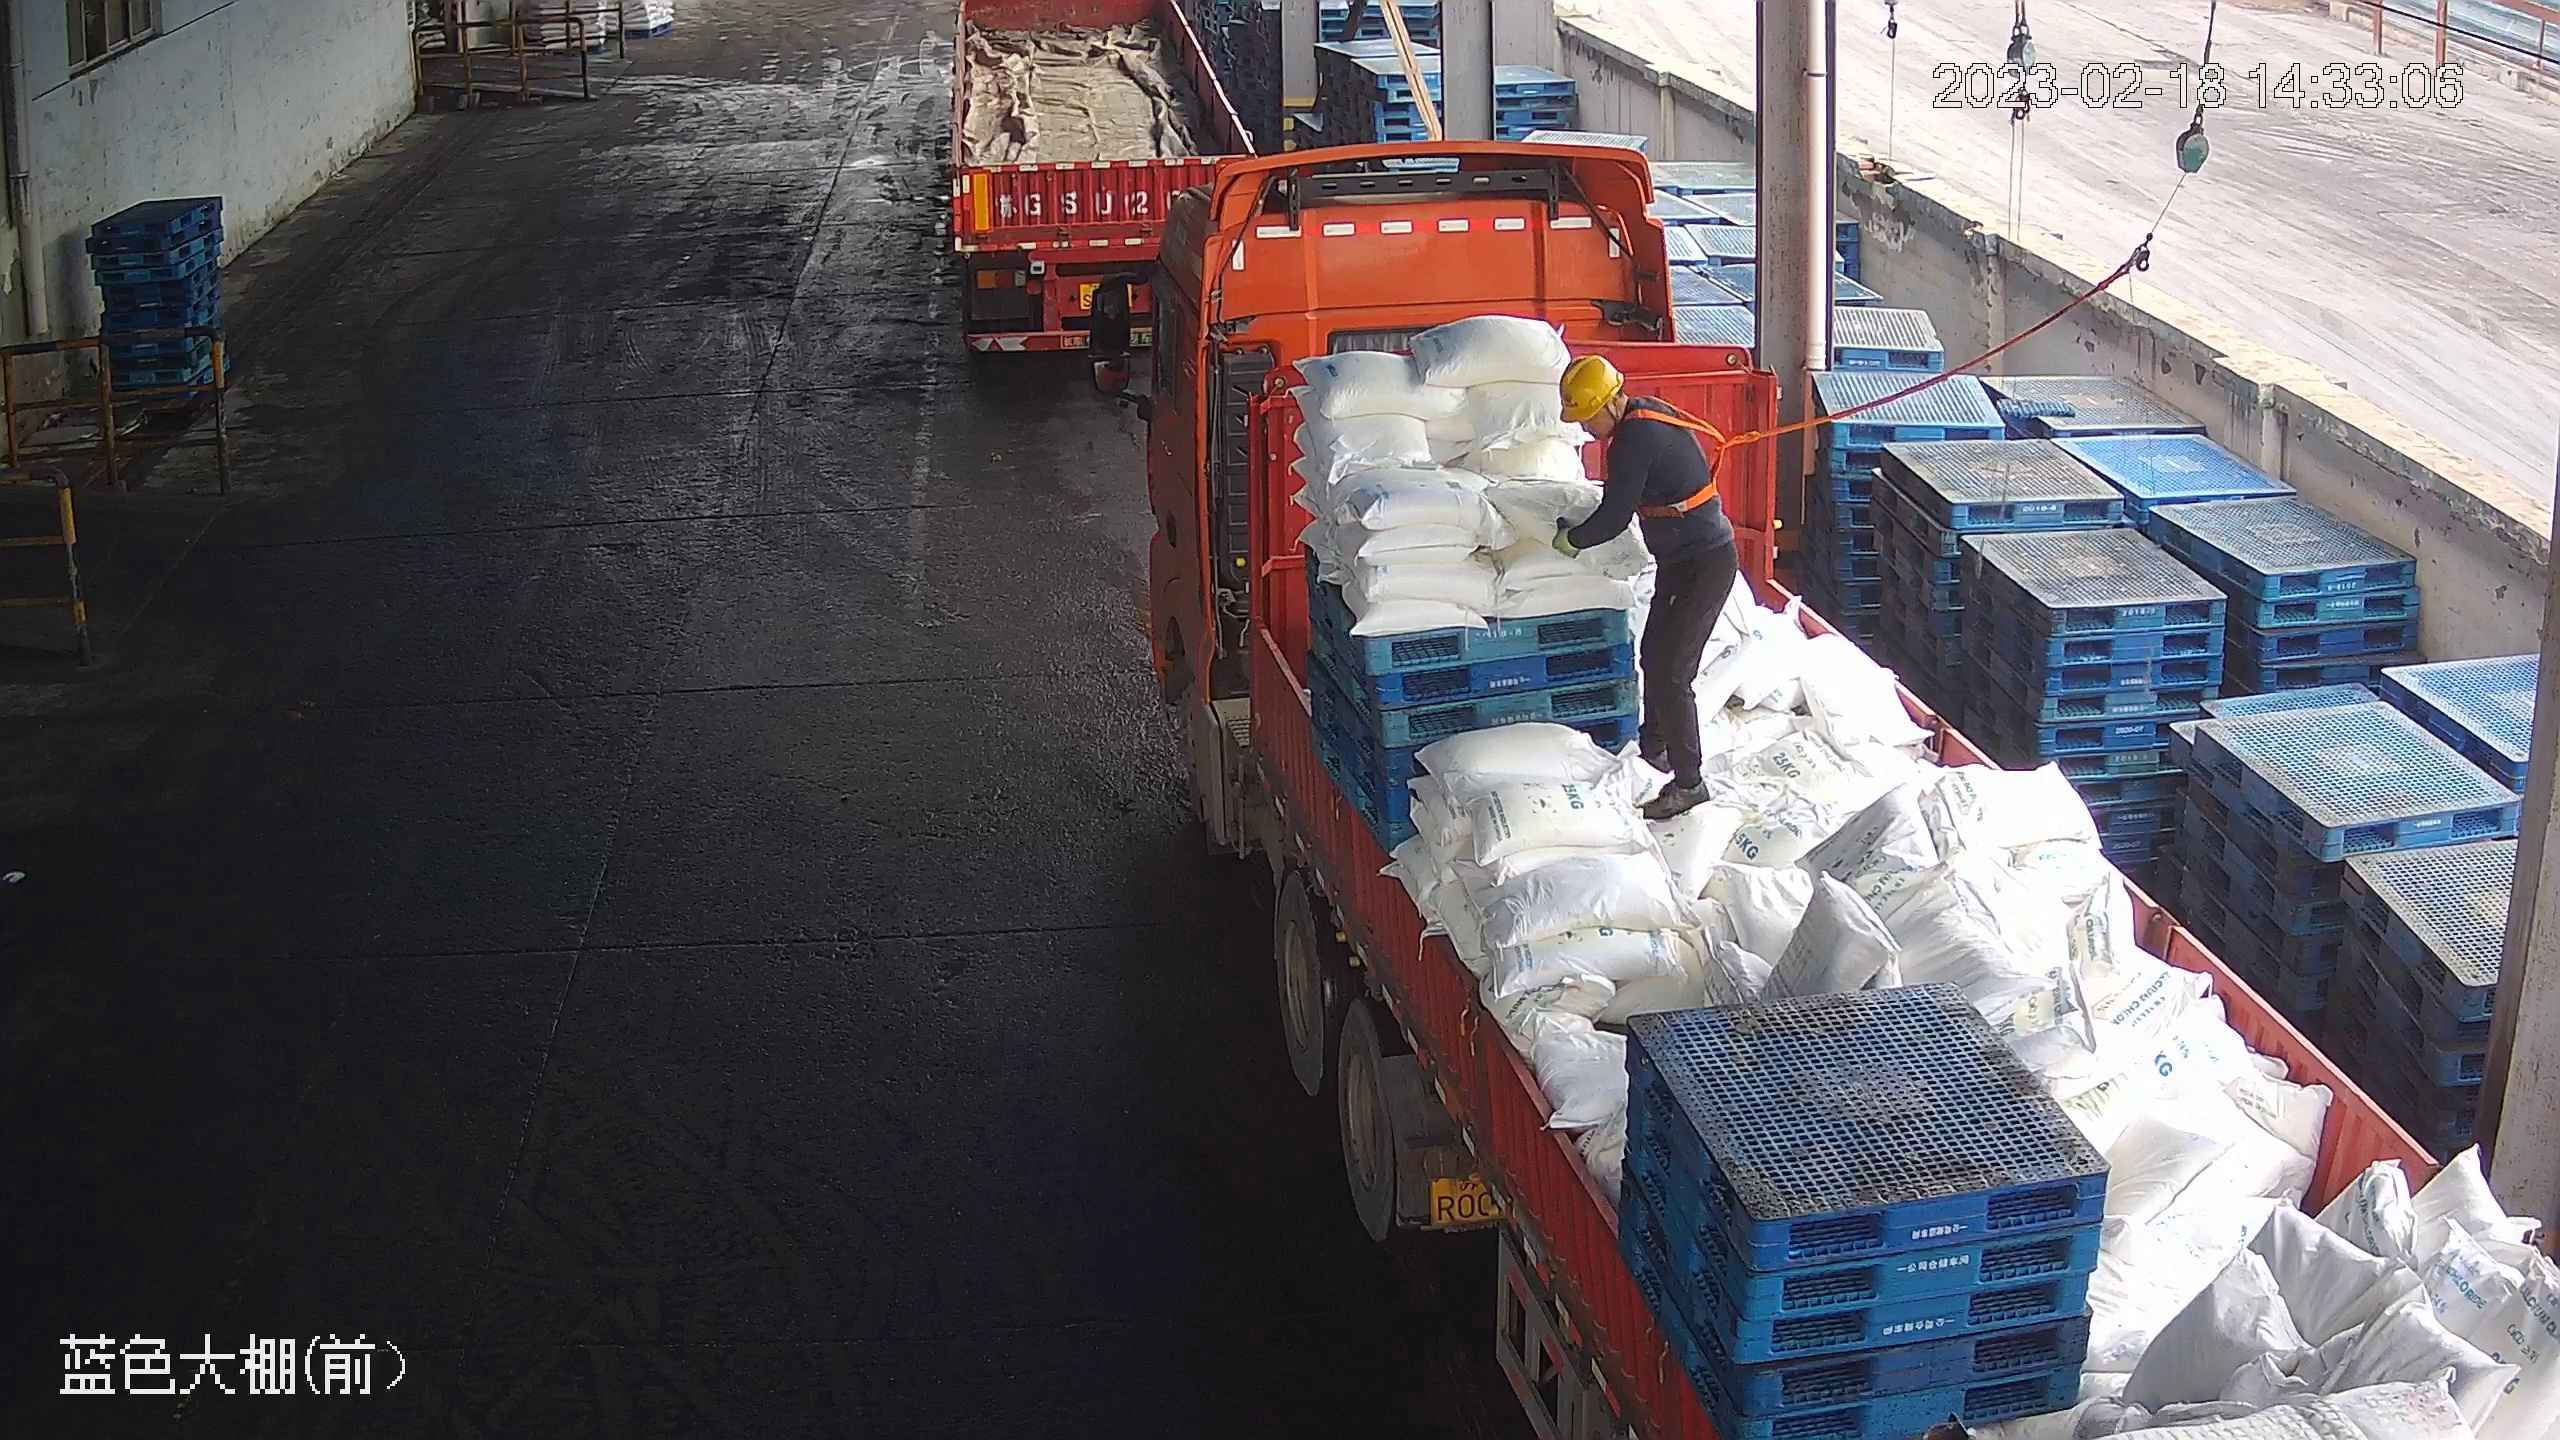belt: (1630, 393, 1748, 521)
head: (1557, 352, 1709, 501)
helmet: (1560, 353, 1626, 423)
people: (1551, 352, 1739, 823)
truck: (1080, 138, 2560, 1437), (941, 2, 1263, 375)
